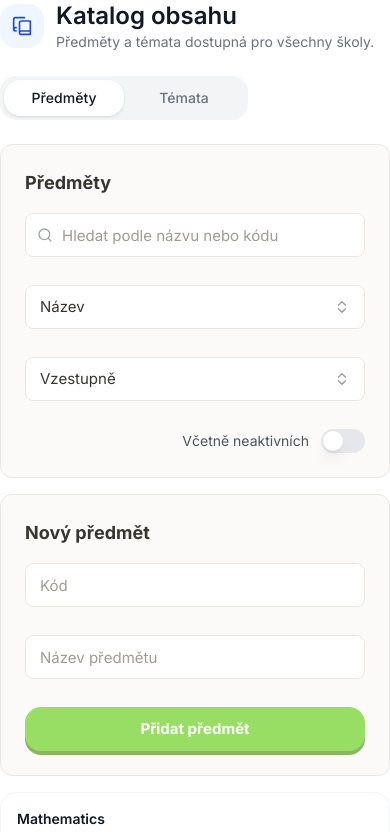
Test: Platform catalog page › edits a topic
Click the tab "Témata".
click(184, 98)  # box [124, 80, 244, 116]
(page scrolled)
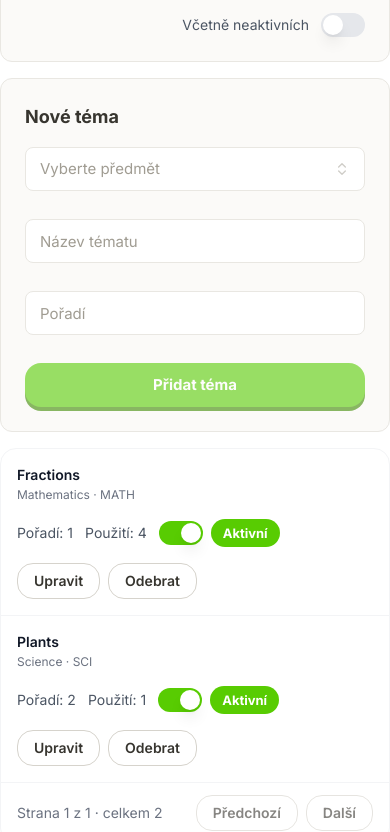
Click the button "Upravit" below "Mathematics".
click(59, 581)  # box [17, 563, 100, 599]
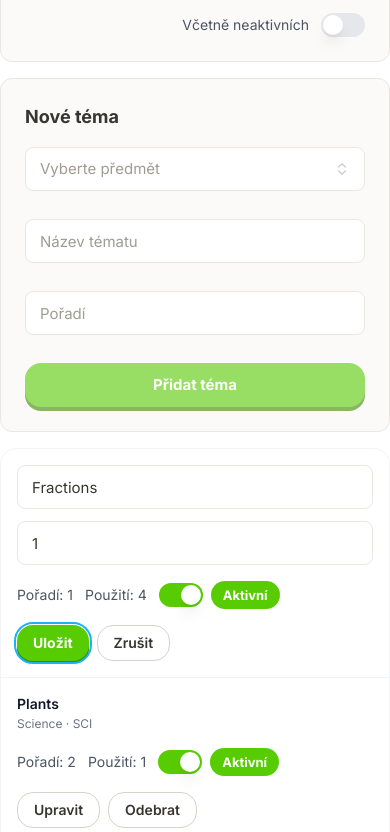
Replace the text in the field named "Upravit téma Fractions" with "Advanced Fractions" at (195,487), box [17, 465, 373, 509]
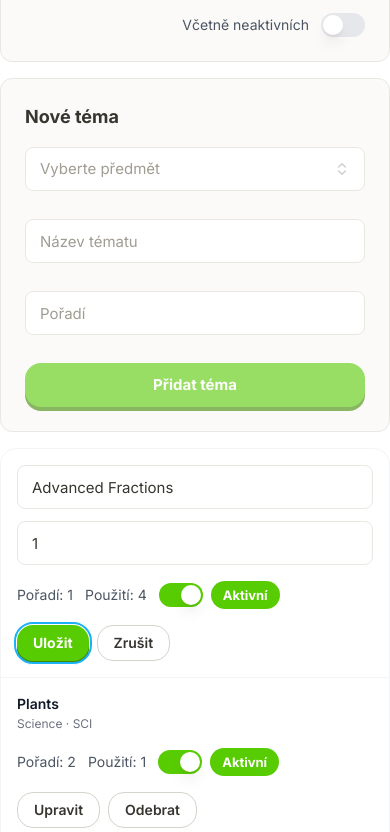
Replace the text in the field named "Upravit pořadí Fractions" with "7" at (195,543), box [17, 521, 373, 565]
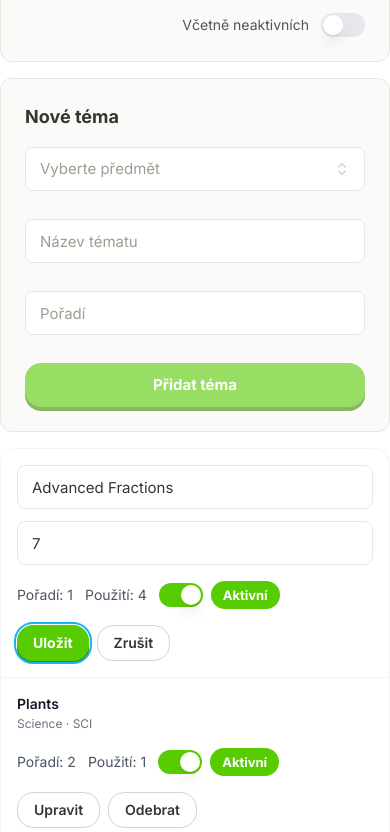
Click the button "Uložit".
click(53, 643)  # box [17, 625, 89, 661]
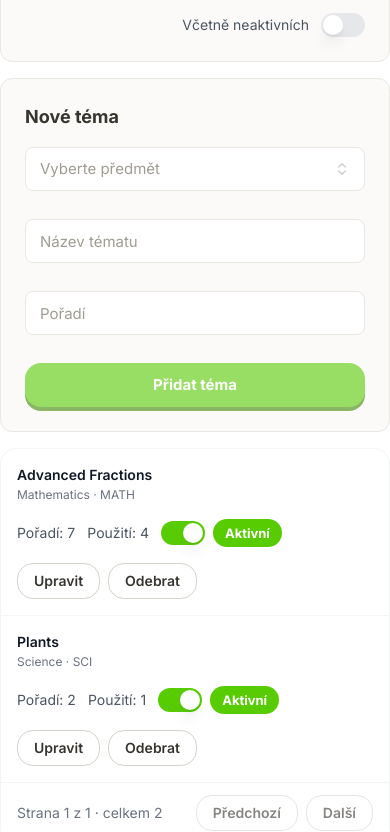
Expected: the text "Advanced Fractions" is shown, [17, 466, 152, 483]
